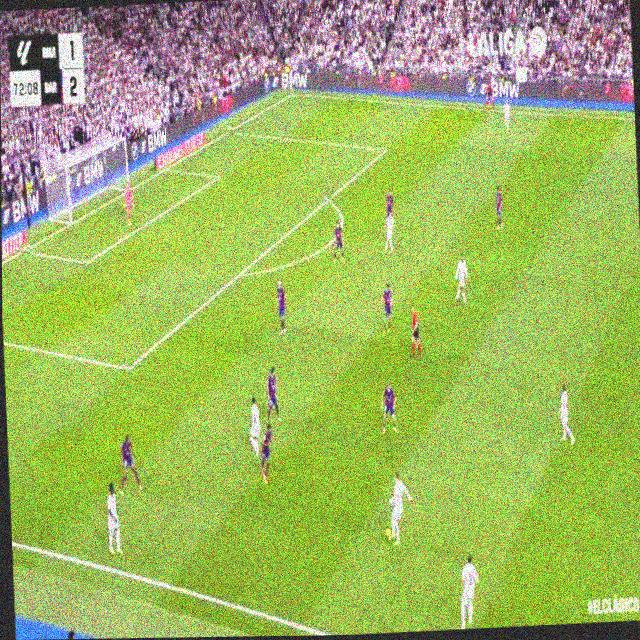bigarea_bottom_inner: (122, 355, 134, 379)
bigarea_top_inner: (382, 142, 388, 155)
bigarea_top_outter: (226, 123, 234, 135)
bottom_arc_area_intersection: (234, 264, 246, 284)
corner: (289, 89, 295, 97)
smallarea_bottom_inner: (81, 252, 92, 271)
smallarea_bottom_outter: (20, 242, 29, 258)
smallarea_top_inner: (214, 170, 219, 181)
top_arc_area_intersection: (323, 190, 332, 207)
